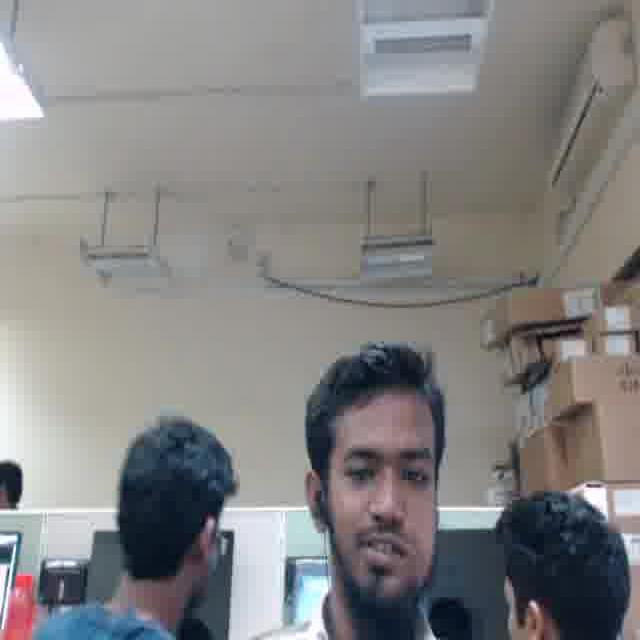Engaged: (325, 397, 440, 596)
